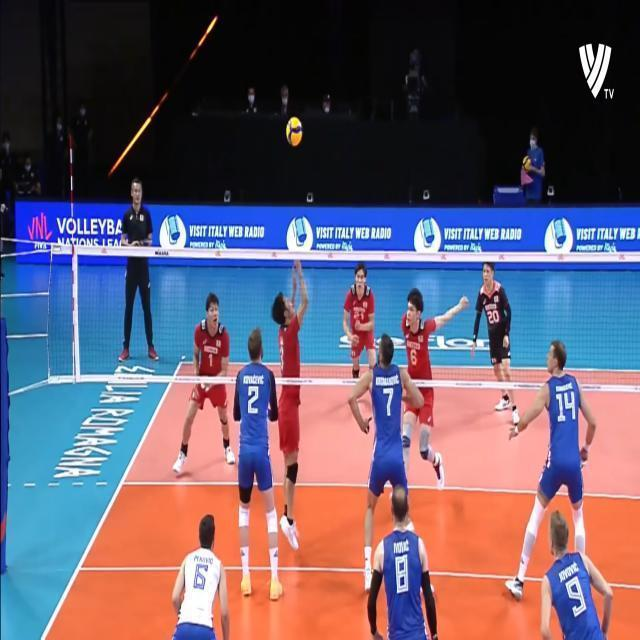volleyball: (286, 118, 300, 146)
